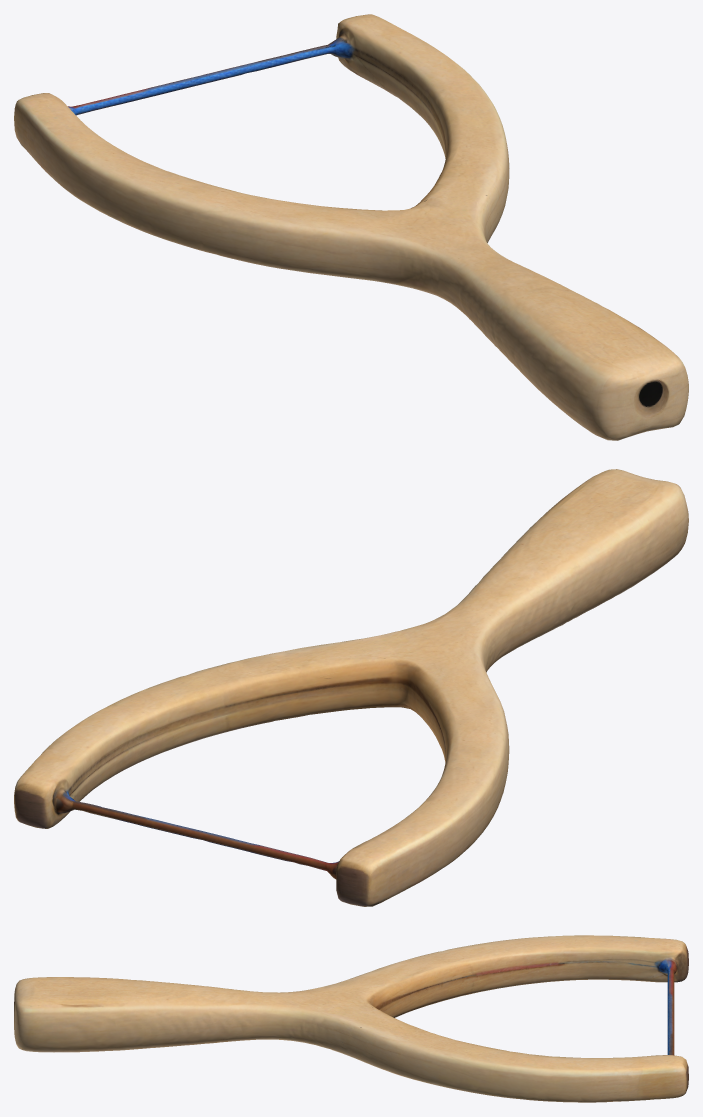
Rendered from Draw_a_slingshot_with_0128222950_texture.fbx.
3 views of the same model, one above another, from view 1: azimuth 30°, elevation 25°; view 2: azimuth 150°, elevation 25°; view 3: azimuth 270°, elevation 25° (orthographic). The views are drawn at different scales.
Parts seen in each view (by area): view 1: Mesh1_Mesh1.020; view 2: Mesh1_Mesh1.020; view 3: Mesh1_Mesh1.020.
Boxes of the visible parts, box(x1,y1,x2,y2) form: Mesh1_Mesh1.020: box(14, 14, 688, 440); Mesh1_Mesh1.020: box(14, 469, 688, 906); Mesh1_Mesh1.020: box(14, 935, 688, 1102).
Size of the model in its own units: 97.48 by 17.24 by 200.
1 material, 1 textured.
